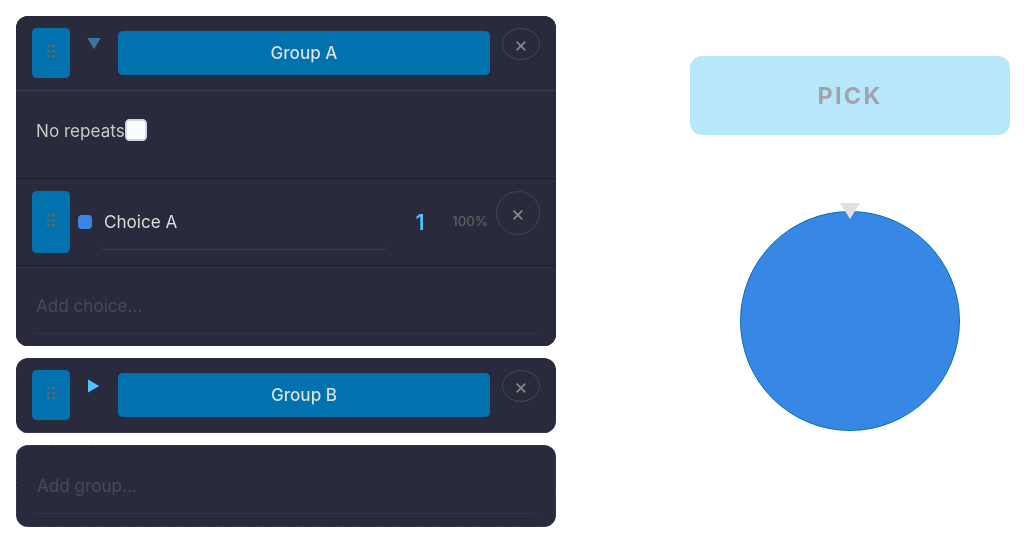
Test: WeightedChoices grouped structure › Accordion behavior › expands one group and collapses the previous one
Check: the field showing "Choice A" is shown, box [100, 194, 388, 250]
Click the 2nd button labelled "▼".
click(94, 386)  # box [82, 374, 106, 398]
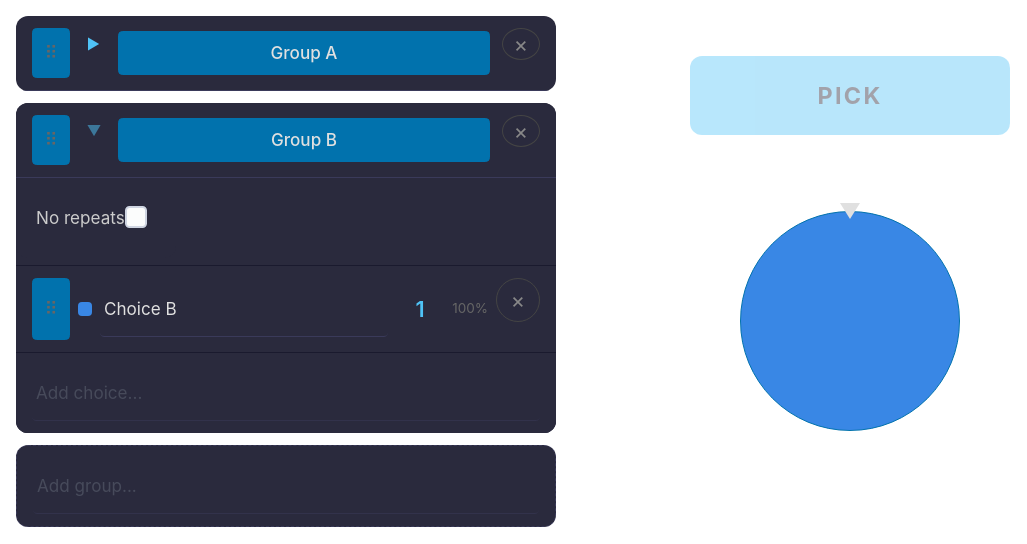
Check: the field showing "Choice B" is shown, box [100, 281, 388, 337]
